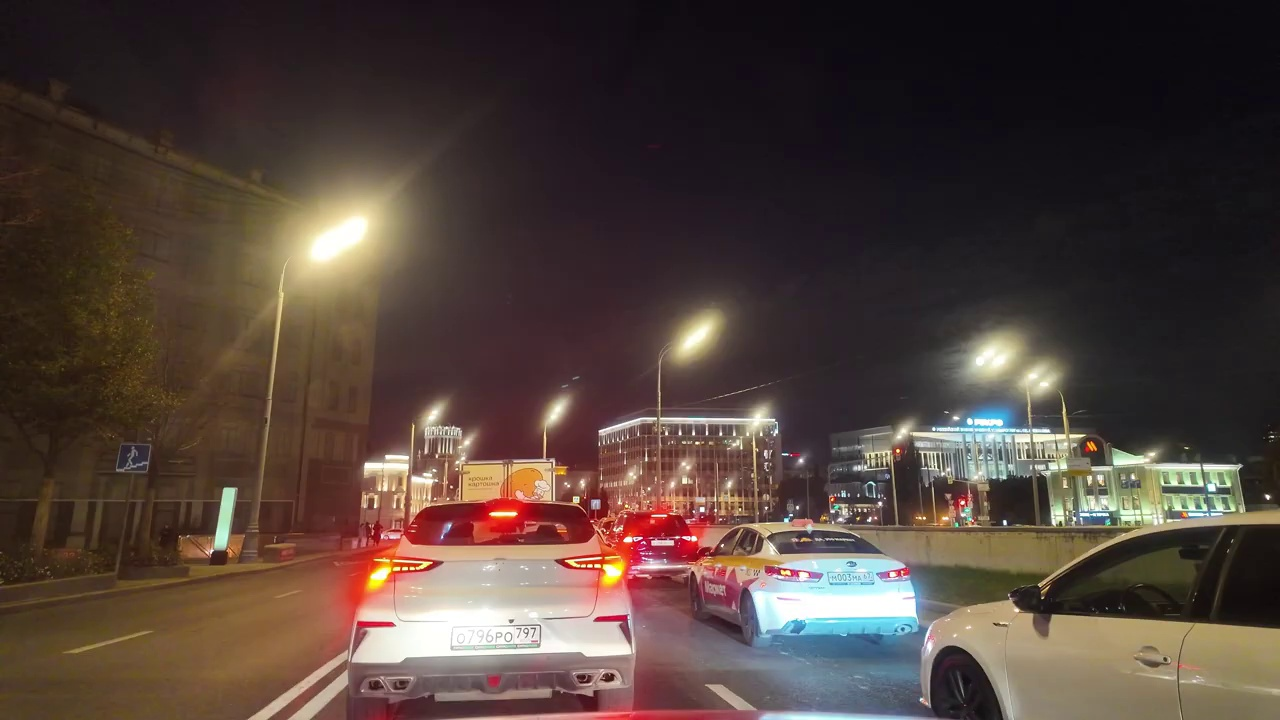acesa: (303, 212, 372, 271), (666, 312, 722, 370), (970, 334, 1020, 384), (540, 390, 574, 435)
